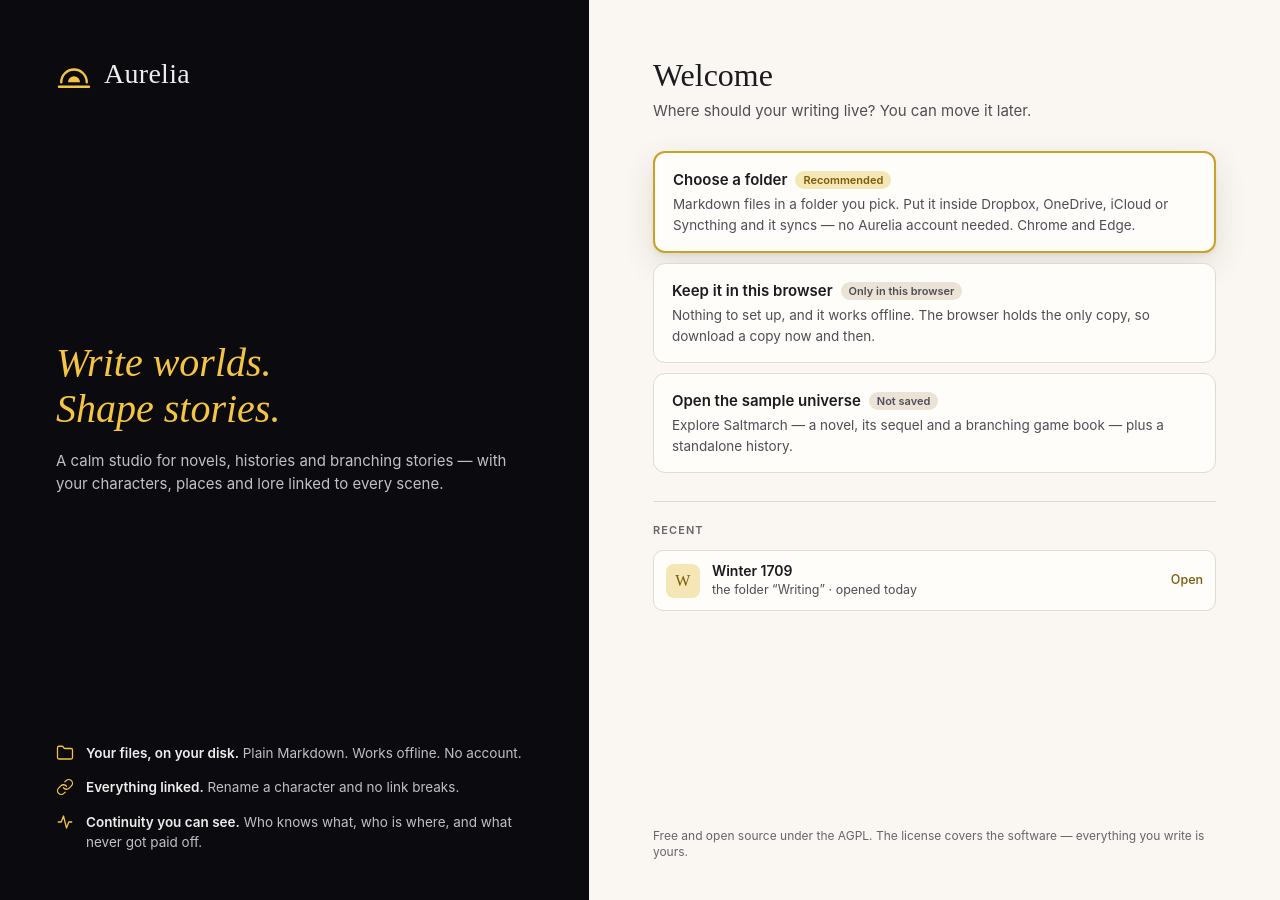
Test: choosing a folder › refuses a folder with other files in it, and writes nothing
Click the button that starts with "Choose a folder". click: click(934, 202)
box: [653,151,1216,253]
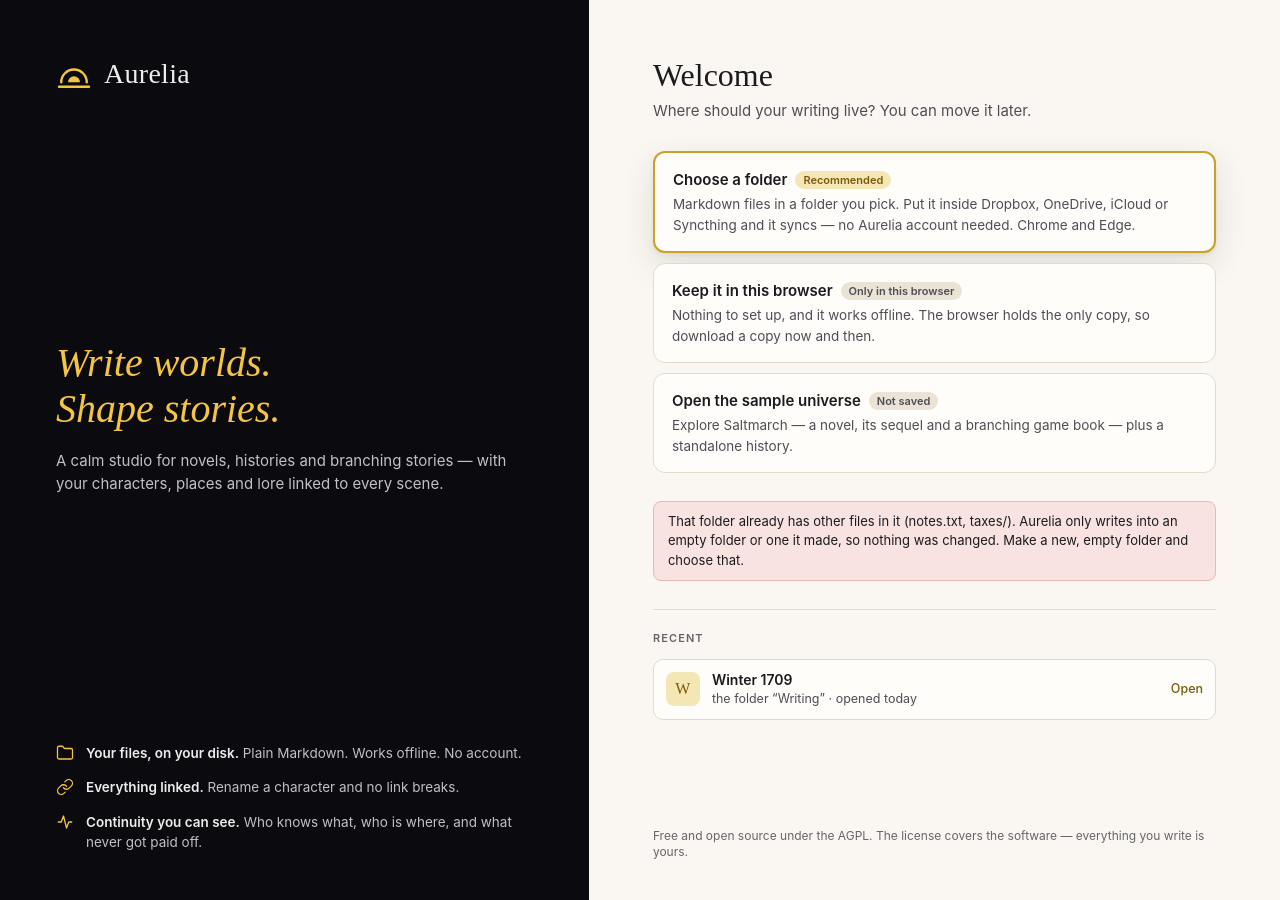
Check: the message shows "already has other files in it", box [668,513,1188,568]
Check: the message shows "nothing was changed", box [668,513,1188,568]
